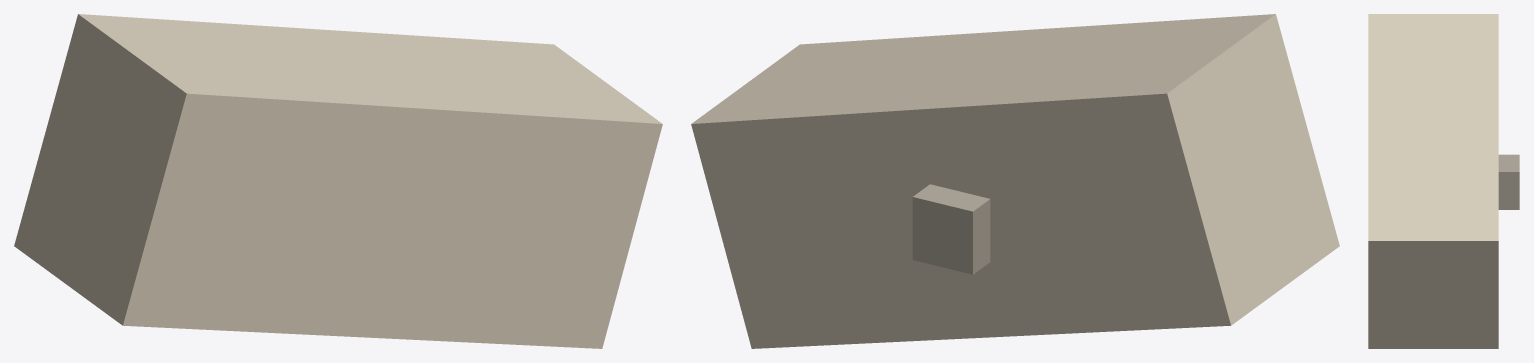
The model's file is historic-palestine-03_22_3449_3163.glb.
The picture shows the model from 3 angles, left to right: view 1: azimuth 30°, elevation 25°; view 2: azimuth 150°, elevation 25°; view 3: azimuth 270°, elevation 25°; orthographic projection. The views are drawn at different scales.
Visible parts, largest first — view 1: Building_; view 2: Building_, Roof access hut; view 3: Building_, Roof access hut.
Boxes of the visible parts, x1,y1,x2,y2 form: Building_: (14, 14, 662, 348); Building_: (691, 14, 1339, 348); Roof access hut: (912, 184, 990, 274); Building_: (1368, 14, 1498, 348); Roof access hut: (1498, 154, 1519, 209).
Bounding box in the file's own units: 21.5 × 13.57 × 8.7.
